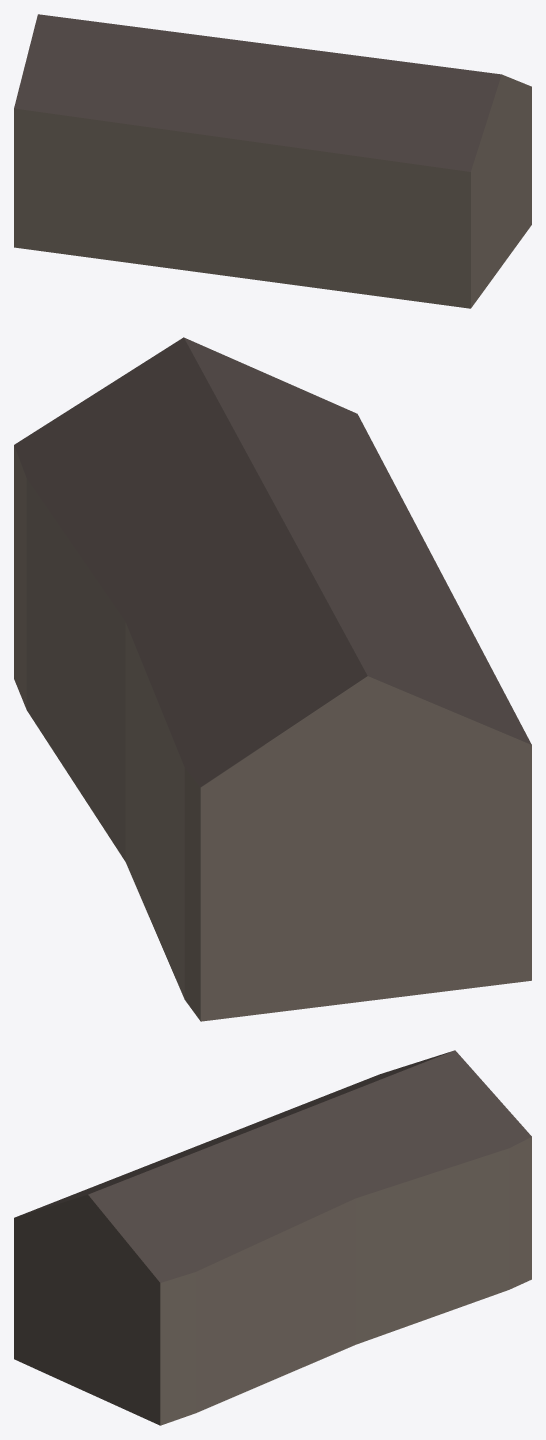
The picture shows the model from 3 angles, top to bottom: view 1: azimuth 30°, elevation 25°; view 2: azimuth 150°, elevation 25°; view 3: azimuth 270°, elevation 25°; orthographic projection. The views are drawn at different scales.
Parts seen in each view (by area): view 1: HP-w1515076943; view 2: HP-w1515076943; view 3: HP-w1515076943.
Part boxes in pixels (left/top/right/bottom): HP-w1515076943: left=14, top=14, right=531, bottom=308; HP-w1515076943: left=14, top=337, right=531, bottom=1021; HP-w1515076943: left=14, top=1050, right=531, bottom=1425.
Bounding box in the file's own units: 28.37 × 12.63 × 29.89.
